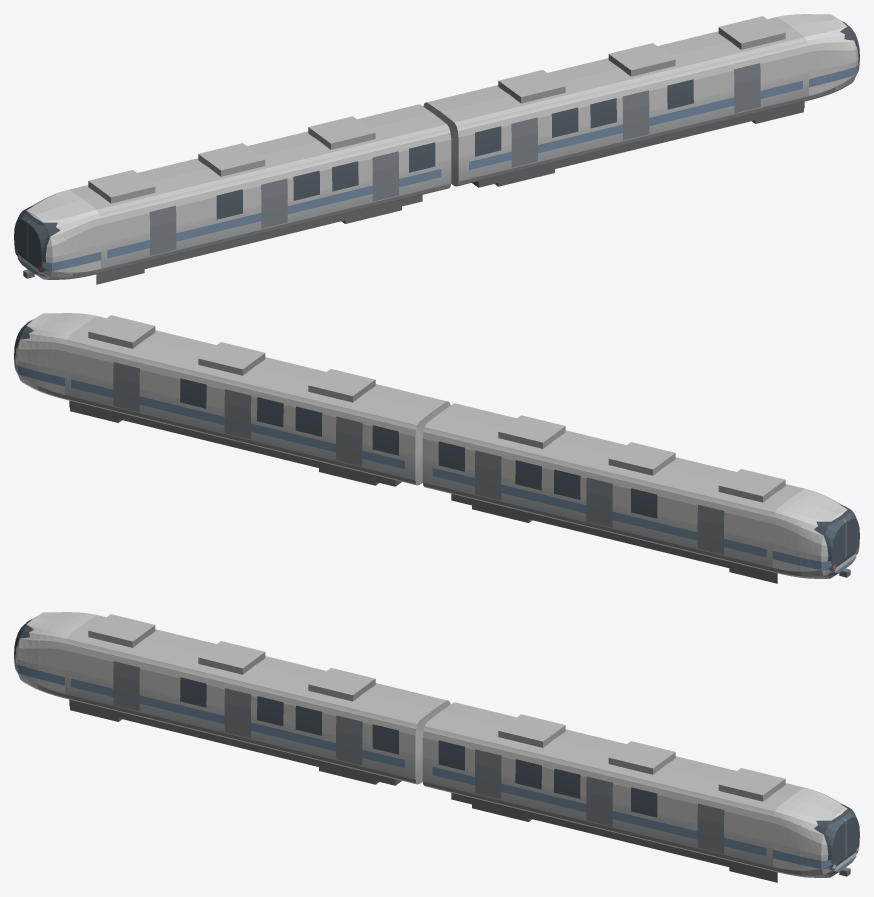
The model's file is 02_HSR_MRT_3x2-05.glb.
3 renders of one model, top to bottom at view 1: azimuth 30°, elevation 25°; view 2: azimuth 150°, elevation 25°; view 3: azimuth 330°, elevation 25°, orthographic.
Size of the model in its own units: 40.68 by 3.88 by 3.14.
